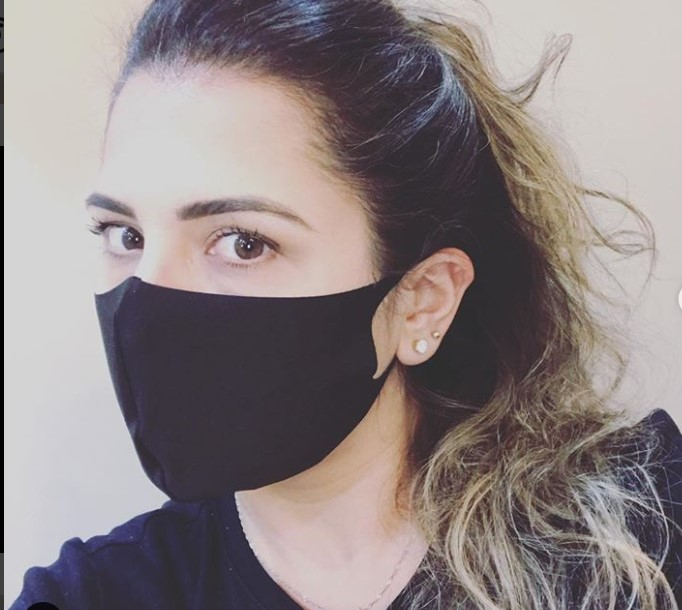face_with_mask: (82, 4, 477, 505)
